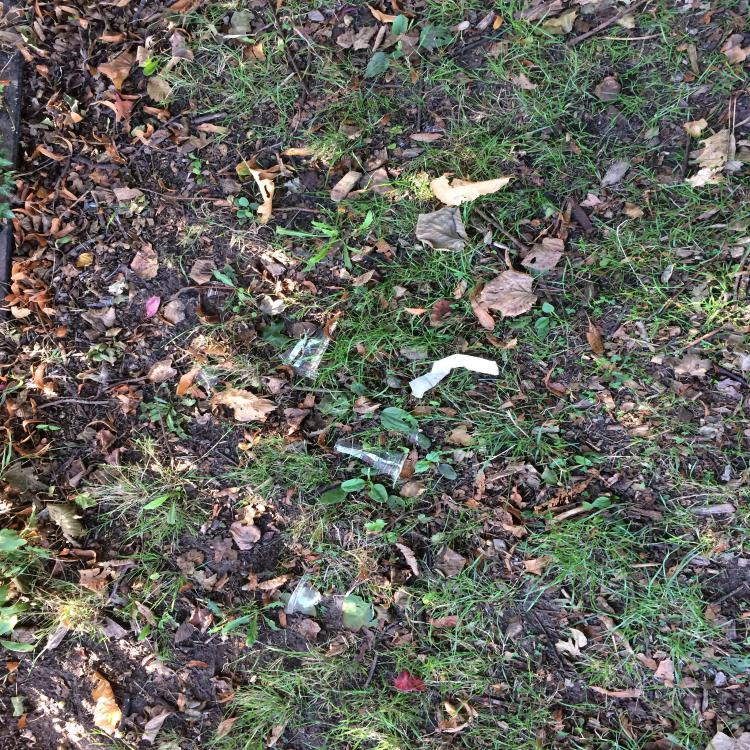Disposable plastic cup: (334, 437, 408, 488), (279, 320, 339, 380)
Normal paper: (409, 354, 499, 398)
Other plastic wrapper: (287, 578, 323, 613)
